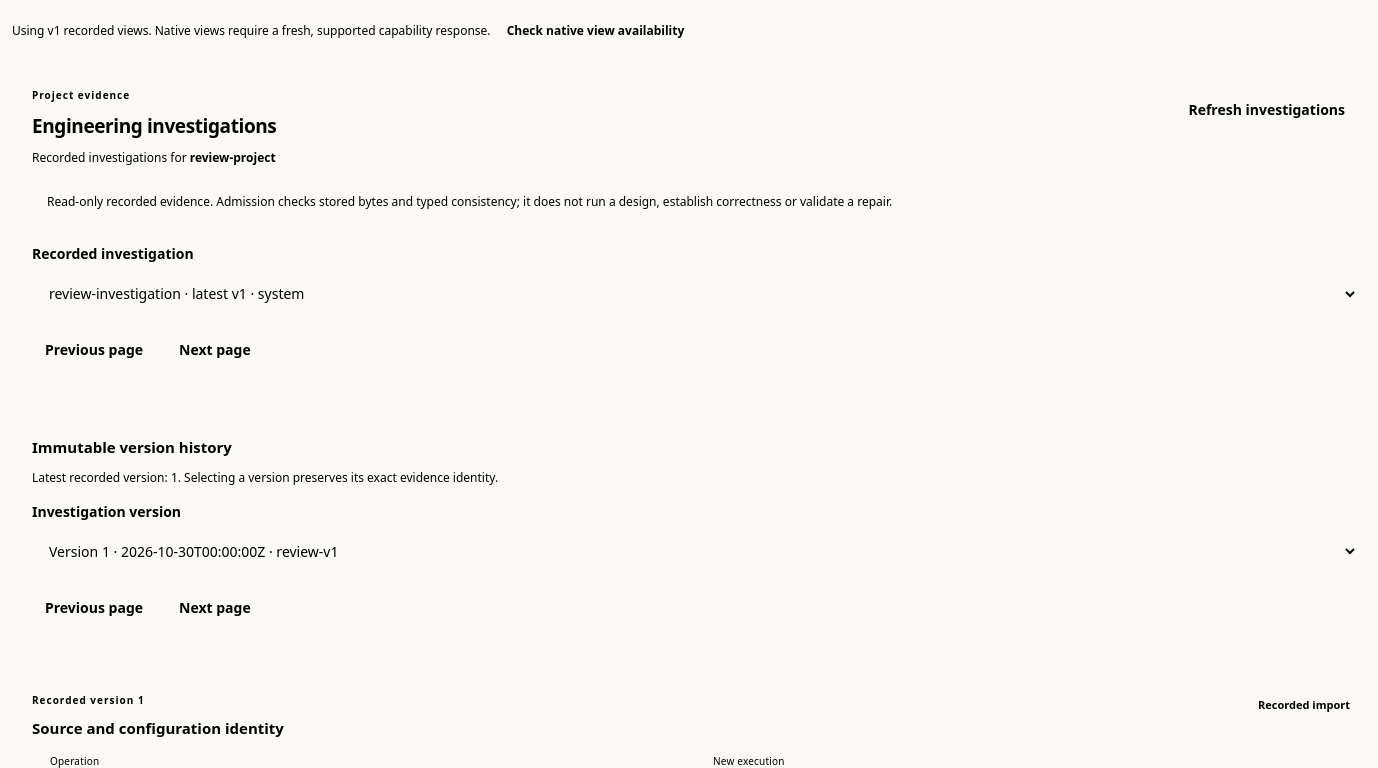
Test case: clears cached evidence and links on artifact409 and provides safe retry
The width and height of the screenshot is (1378, 768).
Click the button "Refresh investigations". click: x=1267, y=110
box: [1175,88,1358,132]
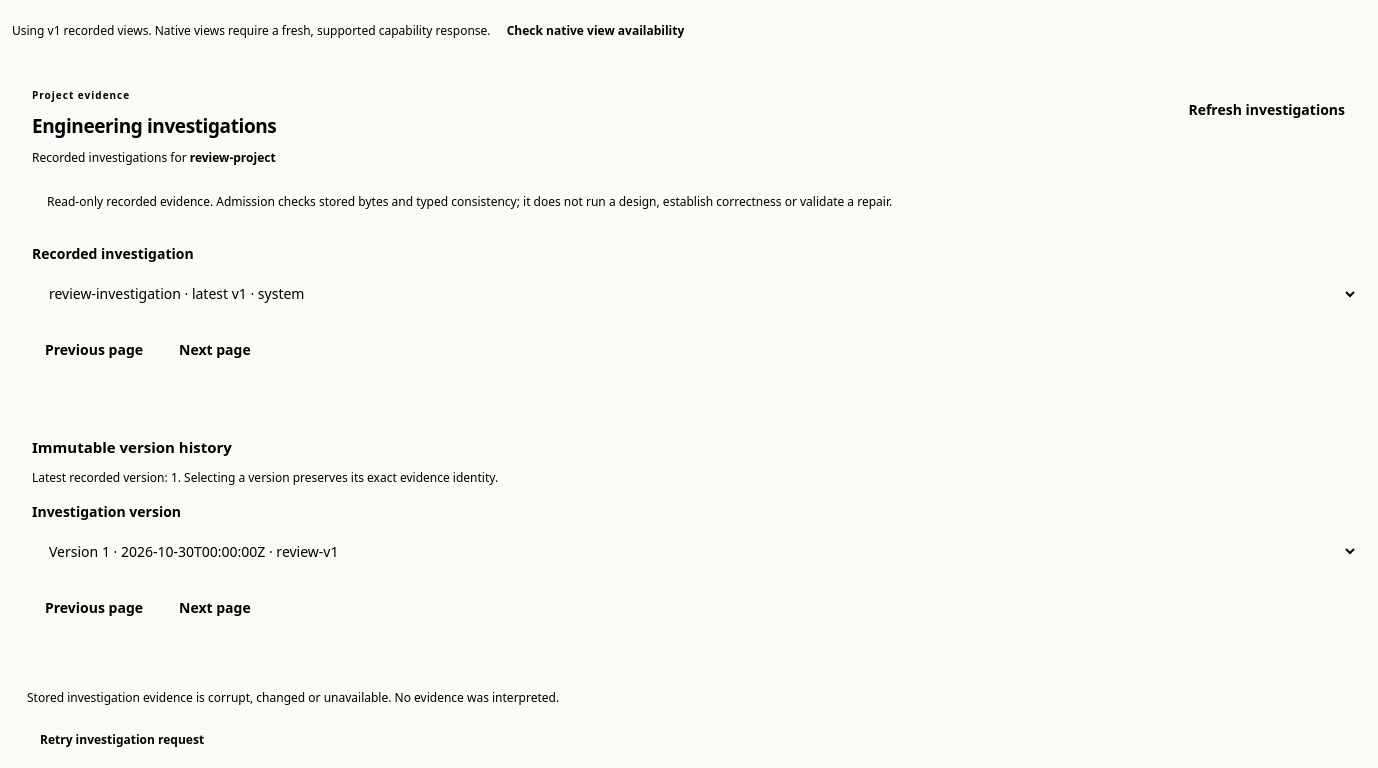
Check: the message is shown, box [27,689,559,762]
Click the button "Retry investigation request". click: x=122, y=740
box: [27,718,217,762]
(page scrolled)
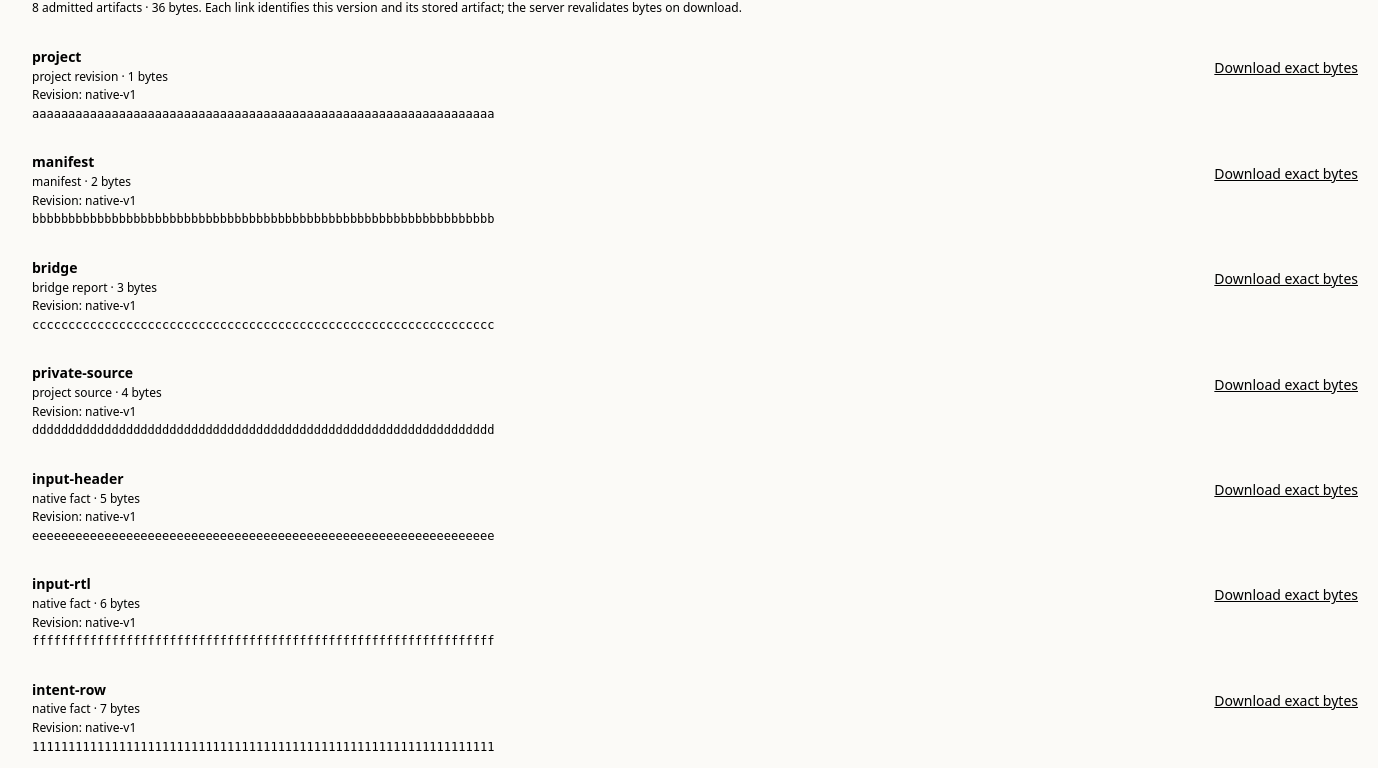
Check: the link with aria-label "Download private-source" is shown, box [1214,374,1358,394]
